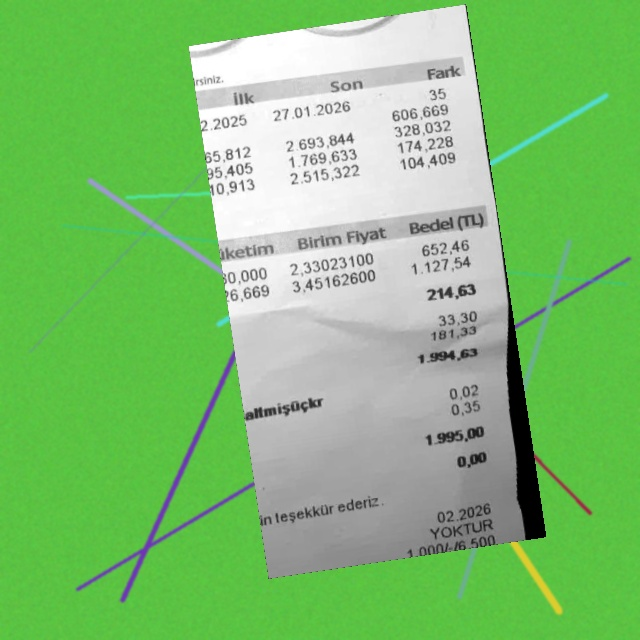electricity-bill: (189, 4, 546, 579)
